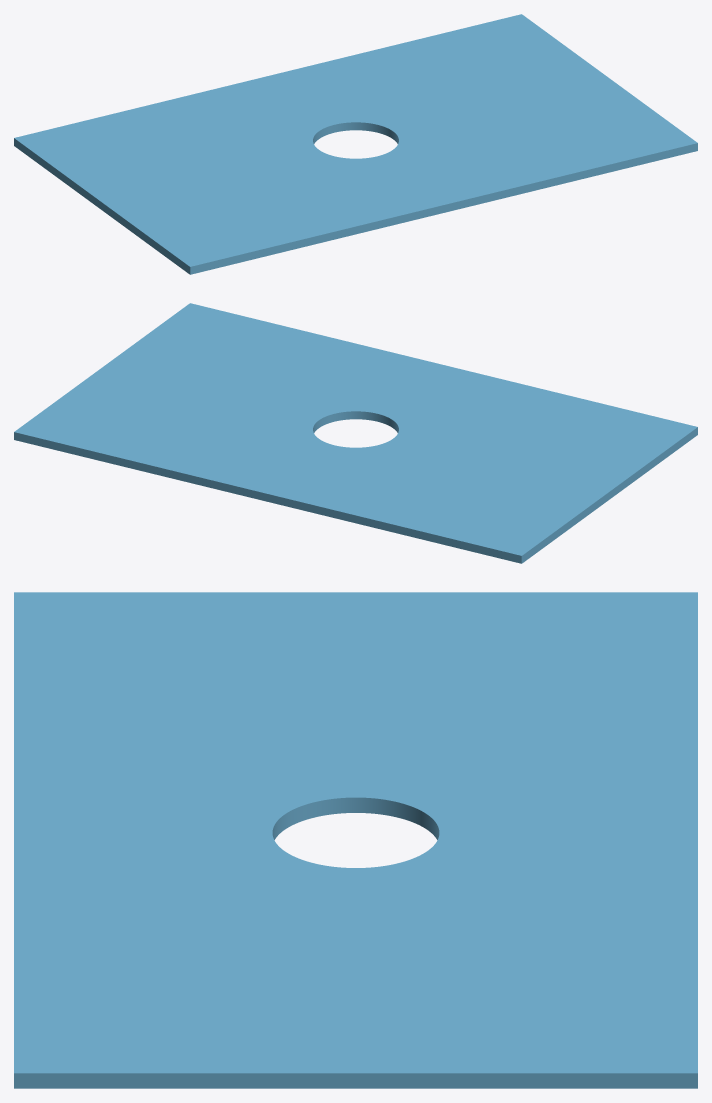
3 views of the same model, one above another, from view 1: azimuth 30°, elevation 25°; view 2: azimuth 150°, elevation 25°; view 3: azimuth 270°, elevation 25° (orthographic). The views are drawn at different scales.
Parts seen in each view (by area): view 1: G10_body; view 2: G10_body; view 3: G10_body.
Boxes of the visible parts, x1=… form: G10_body: x1=14, y1=14, x2=697, y2=274; G10_body: x1=14, y1=303, x2=697, y2=563; G10_body: x1=14, y1=592, x2=697, y2=1088.
Bounding box in the file's own units: 127 × 1.9 × 76.56.
